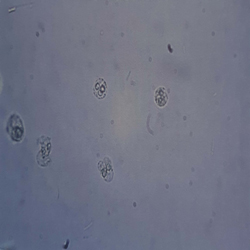WBC: (33, 134, 56, 171), (5, 110, 27, 144), (97, 156, 117, 183), (154, 82, 172, 110), (91, 74, 109, 101)
